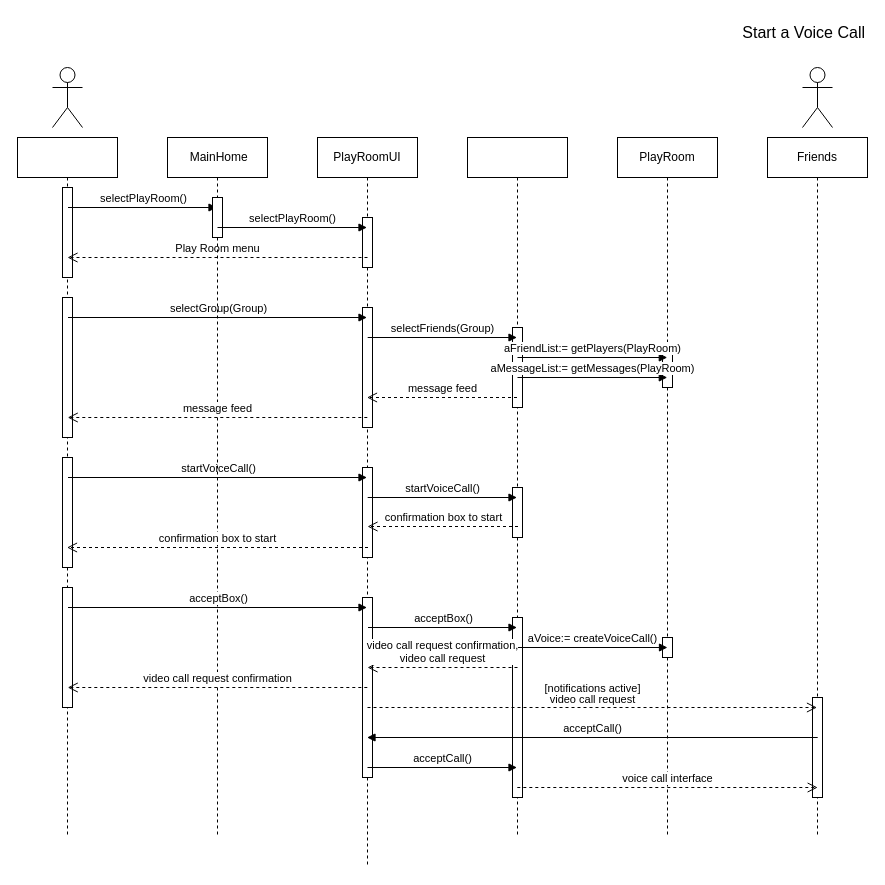
Image size: 885x885. Some labels were removed from this diagram. The shapes that lost their labels are listed below. From the top down, each one's centre as x and y in pixels, then its label:
At point 67,487: "Member".
At point 517,487: "PlayroomHandler".
